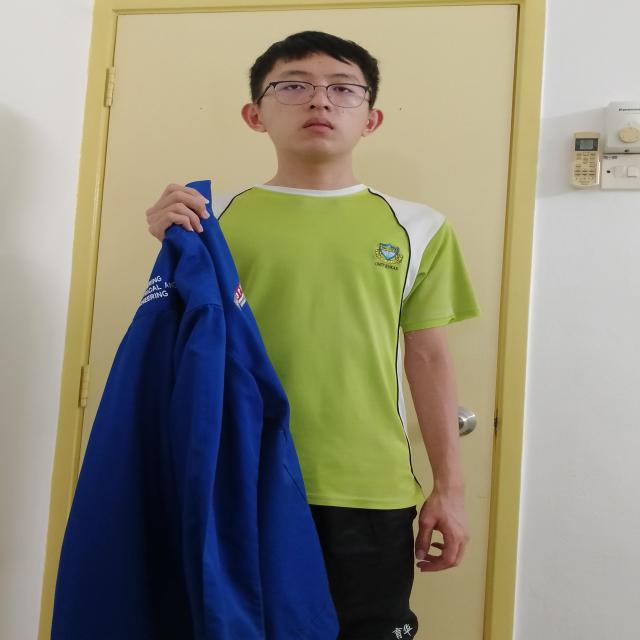person_without_labcoat: (54, 31, 480, 640)
